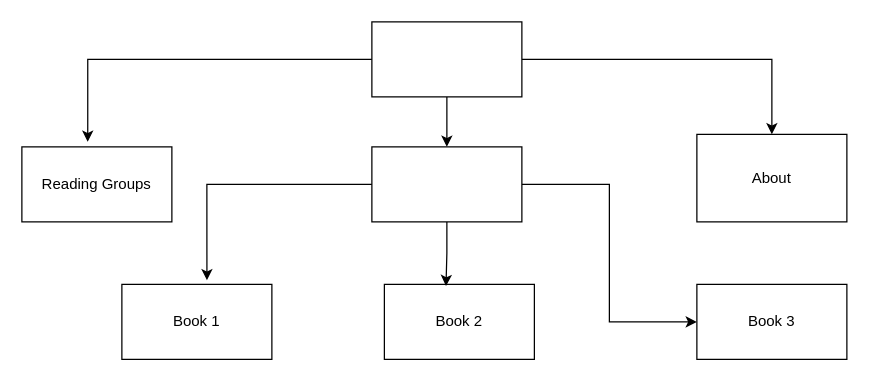
The diagram is 869 pixels wide and 381 high, and some of its shapes have lost their labels. Here are the shapes that lost their labels. From the top down, the centre of each, then its label:
At point 446,59: "Home".
At point 446,184: "Books".
